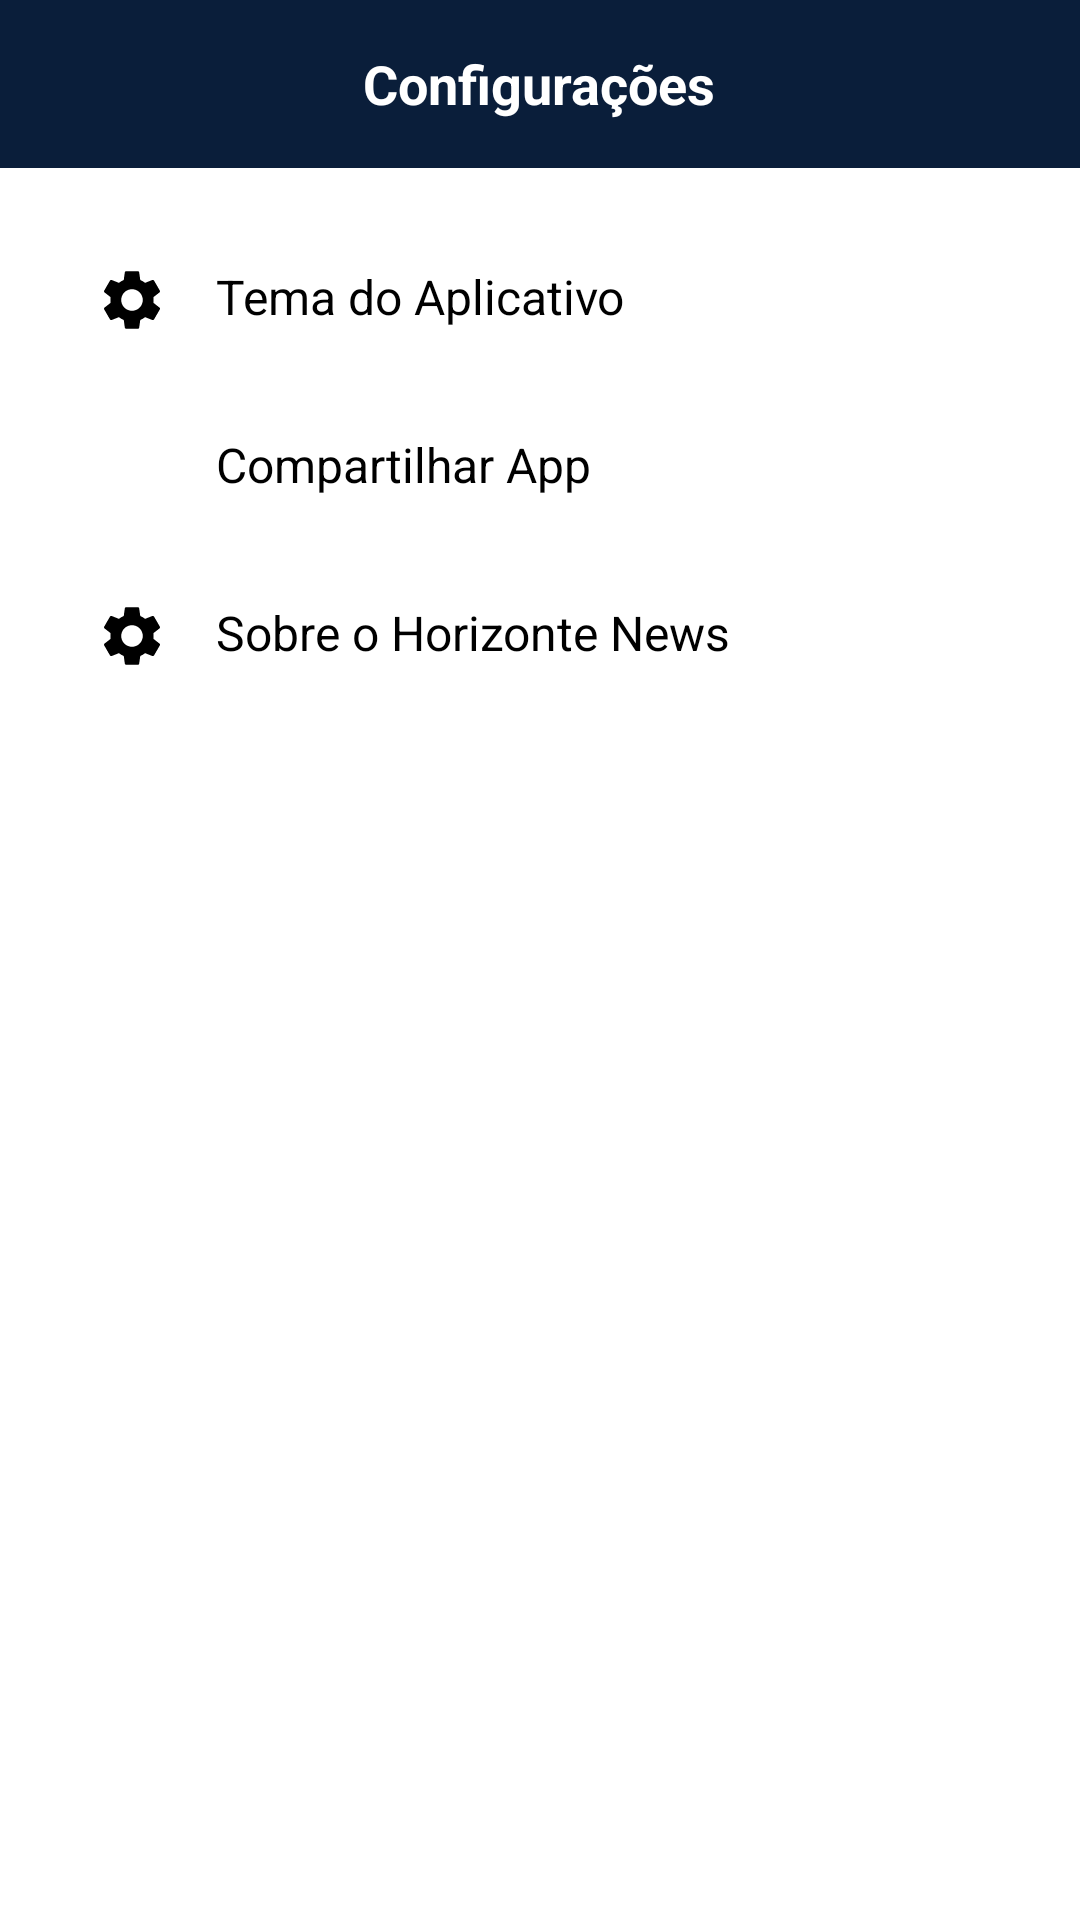

Screen size 1080 x 1920. Icon name, then its center in pixels as [x,y]:
settings gear: [132,300], [132,636]
